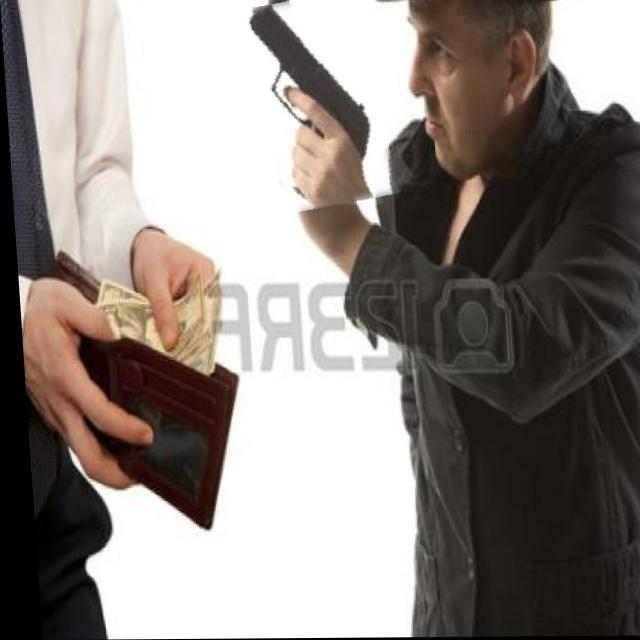handgun: (241, 0, 389, 210)
